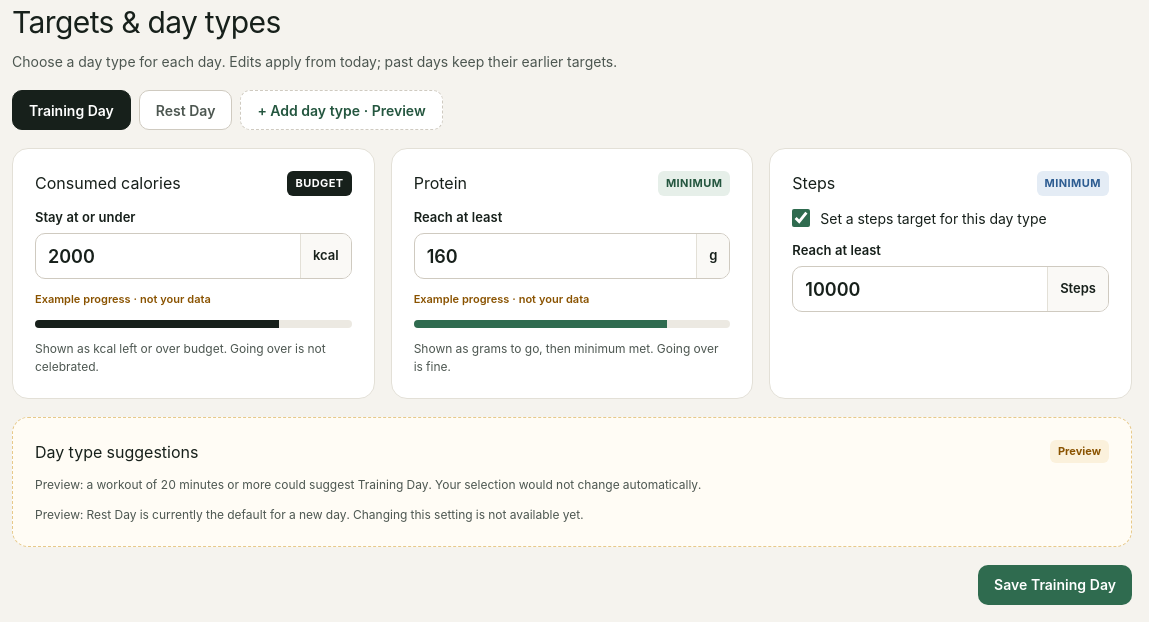
Test: saves the selected day type targets and keeps the other day type separate
This screenshot has width=1149, height=622.
expect the tab "Training Day" is shown: met, box [12,90,131,130]
Replace the text in the number field labelled "Stay at or under kcal" with "2200" at (168, 256), box [36,234,300,278]
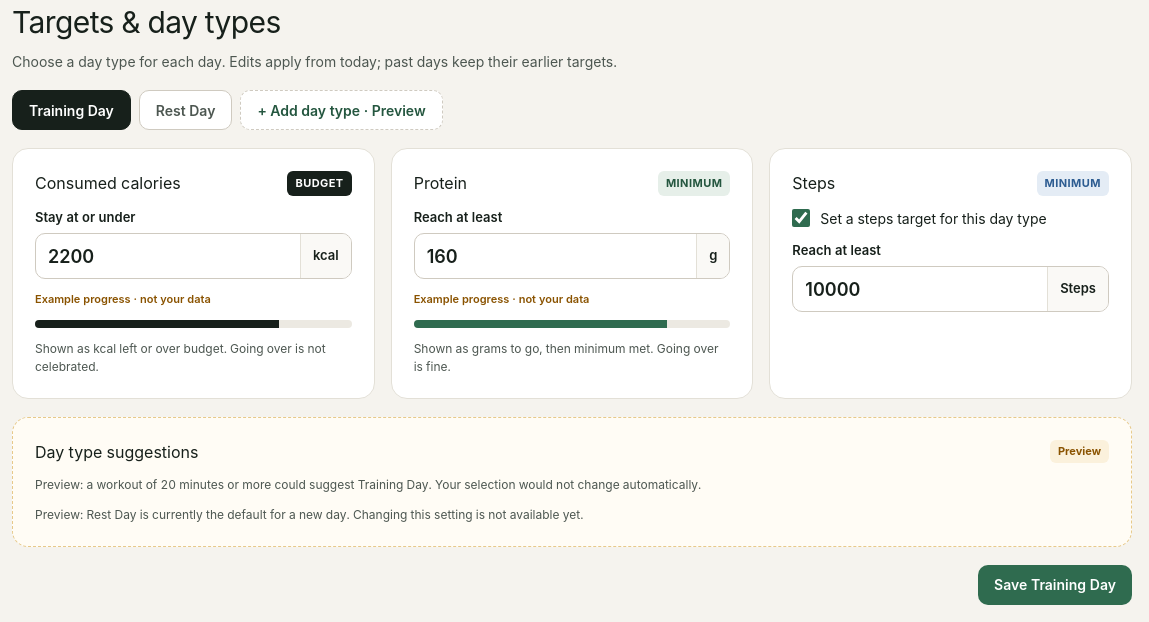
Click the button "Save Training Day" at (1055, 584), box [978,564,1132,604]
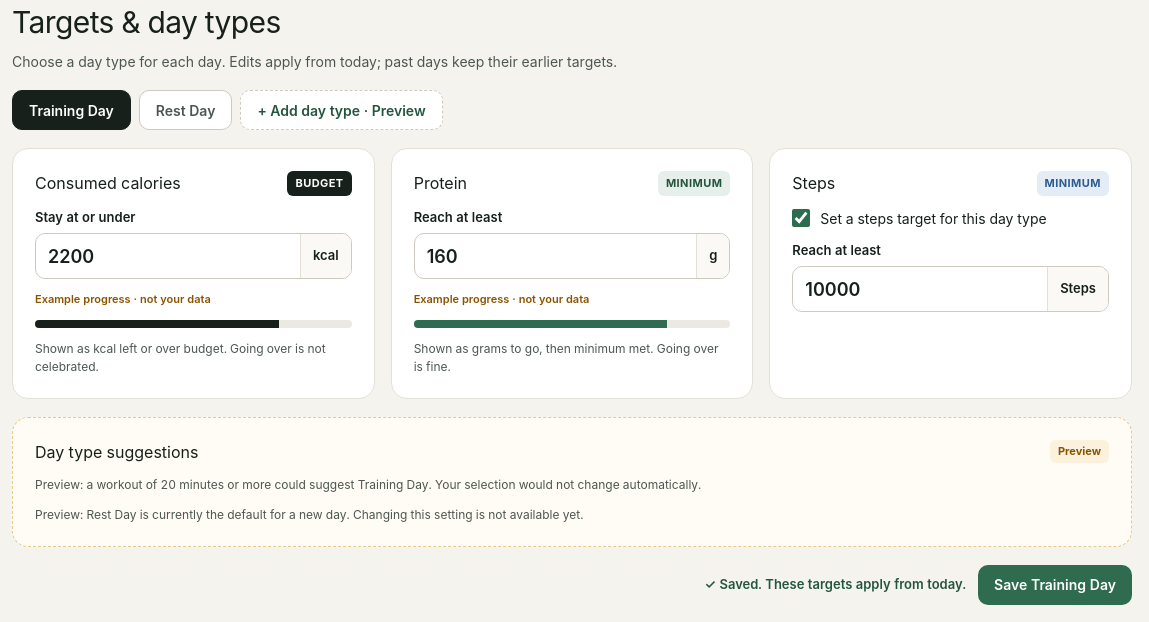
expect the message reads "✓ Saved. These targets apply from today.": met, box [704,575,966,594]
Click the tab "Rest Day" at (186, 110), box [139,90,232,130]
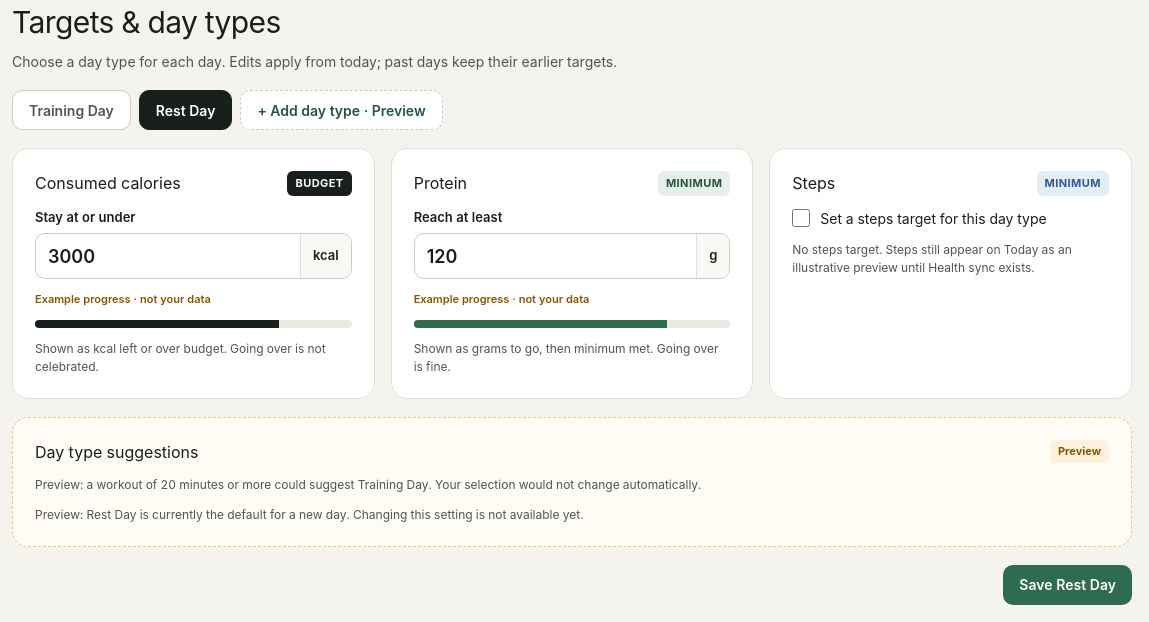
expect the number field labelled "Stay at or under kcal" holds "3000": met, box [36,234,300,278]
expect the checkbox labelled "Set a steps target for this day type" is not checked: met, box [792,209,810,227]
